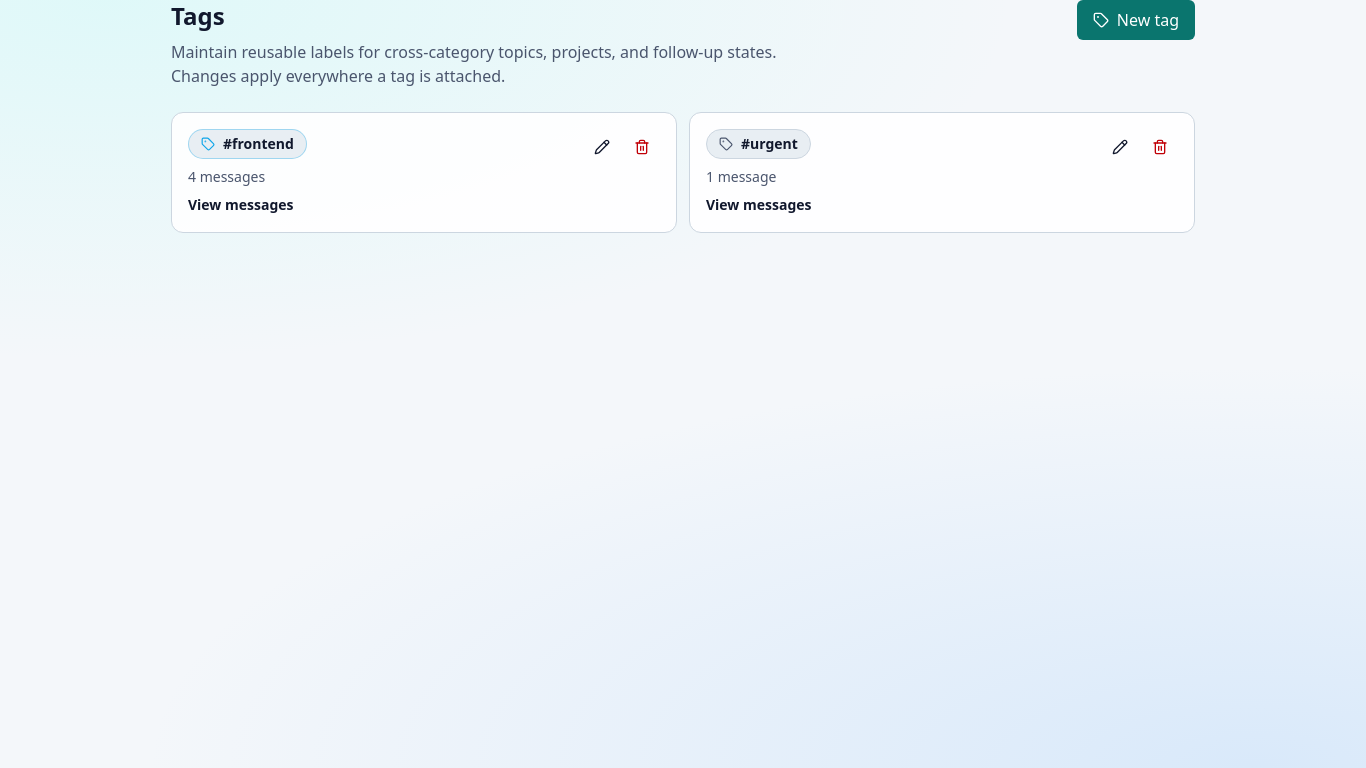
Scenario: TagsPage › deletes a tag without deleting its messages
The image size is (1366, 768).
Expected: the text "#frontend" is shown, [223,134,294,154]
Click the button named "Delete #frontend" at (642, 147), box [624,129,660,165]
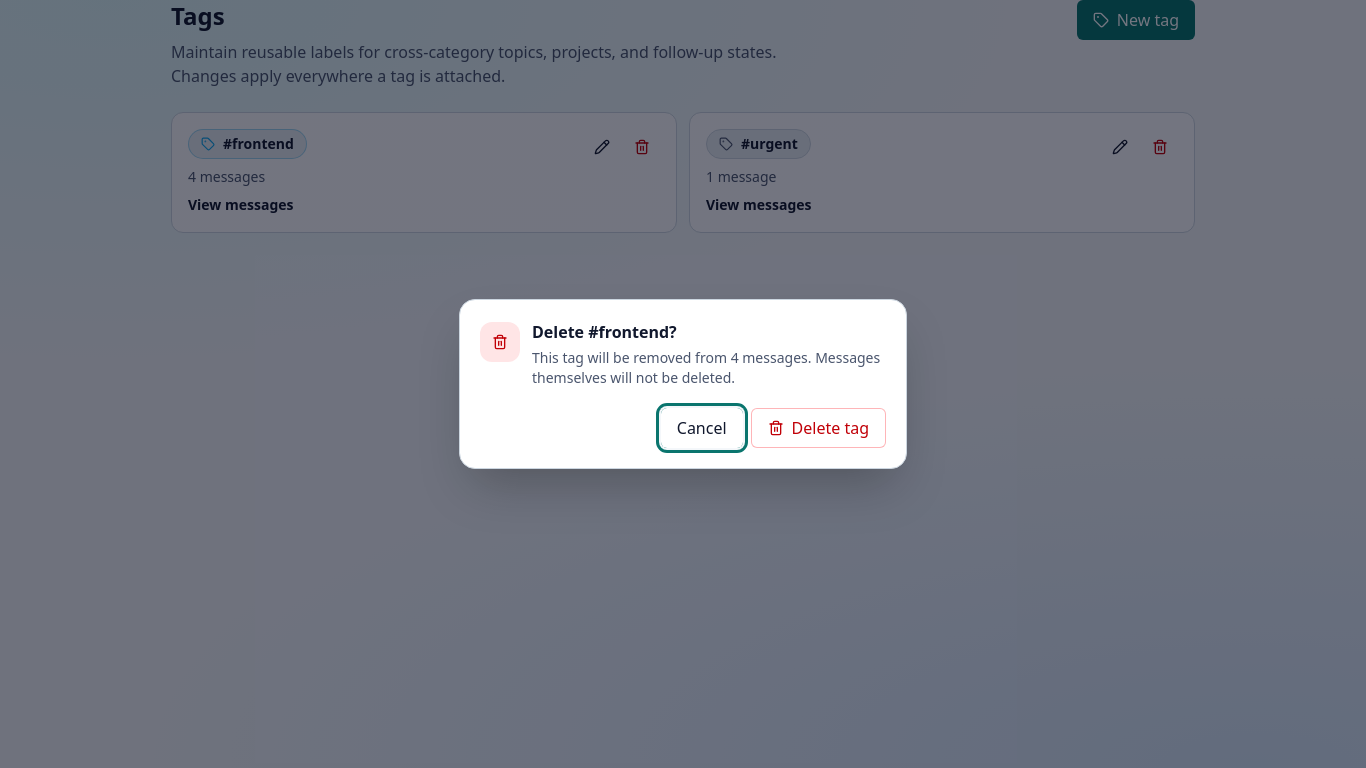
Expected: the text "This tag will be removed from 4 messages. Messages themselves will not be deleted." is shown, [532,348,880,387]
Click the button "Delete tag" at (818, 428), box [751,408,886,448]
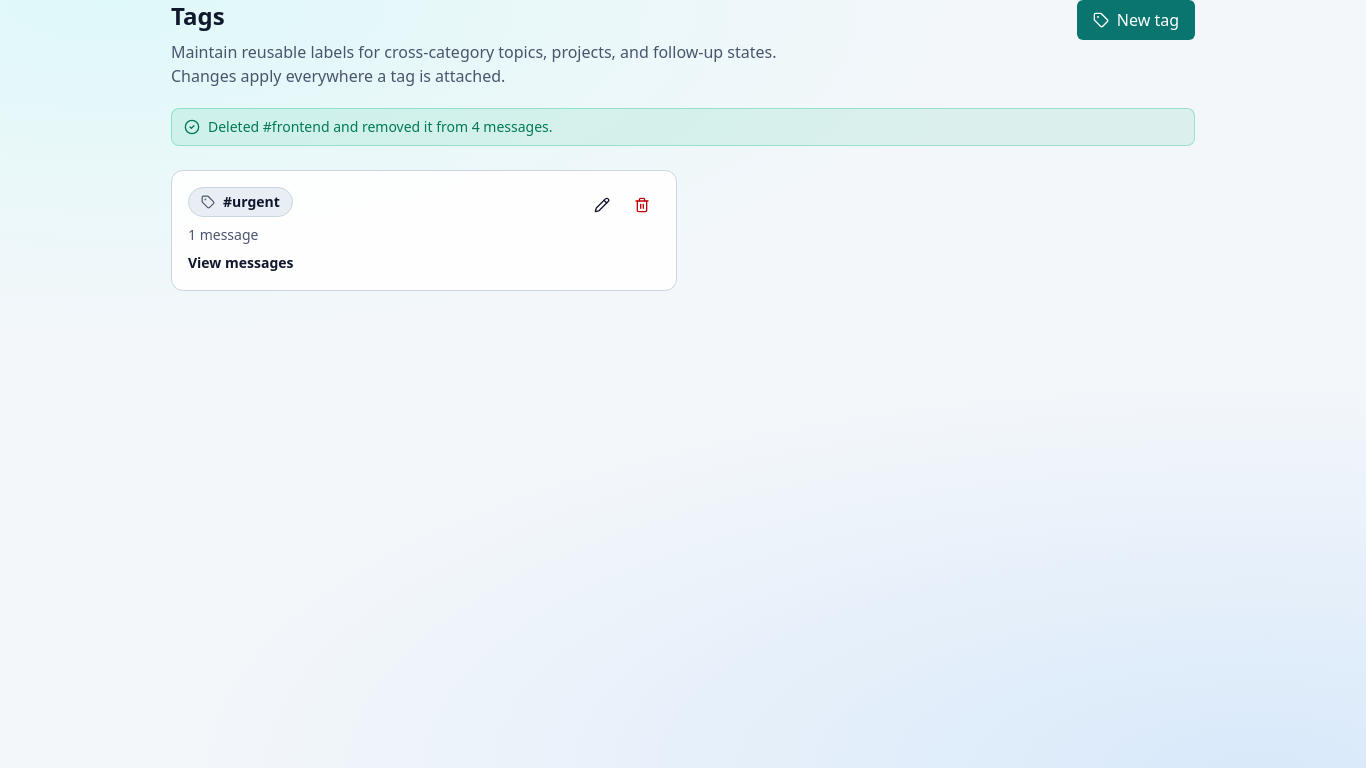
Expected: the text "Deleted #frontend and removed it from 4 messages." is shown, [208,117,552,137]
